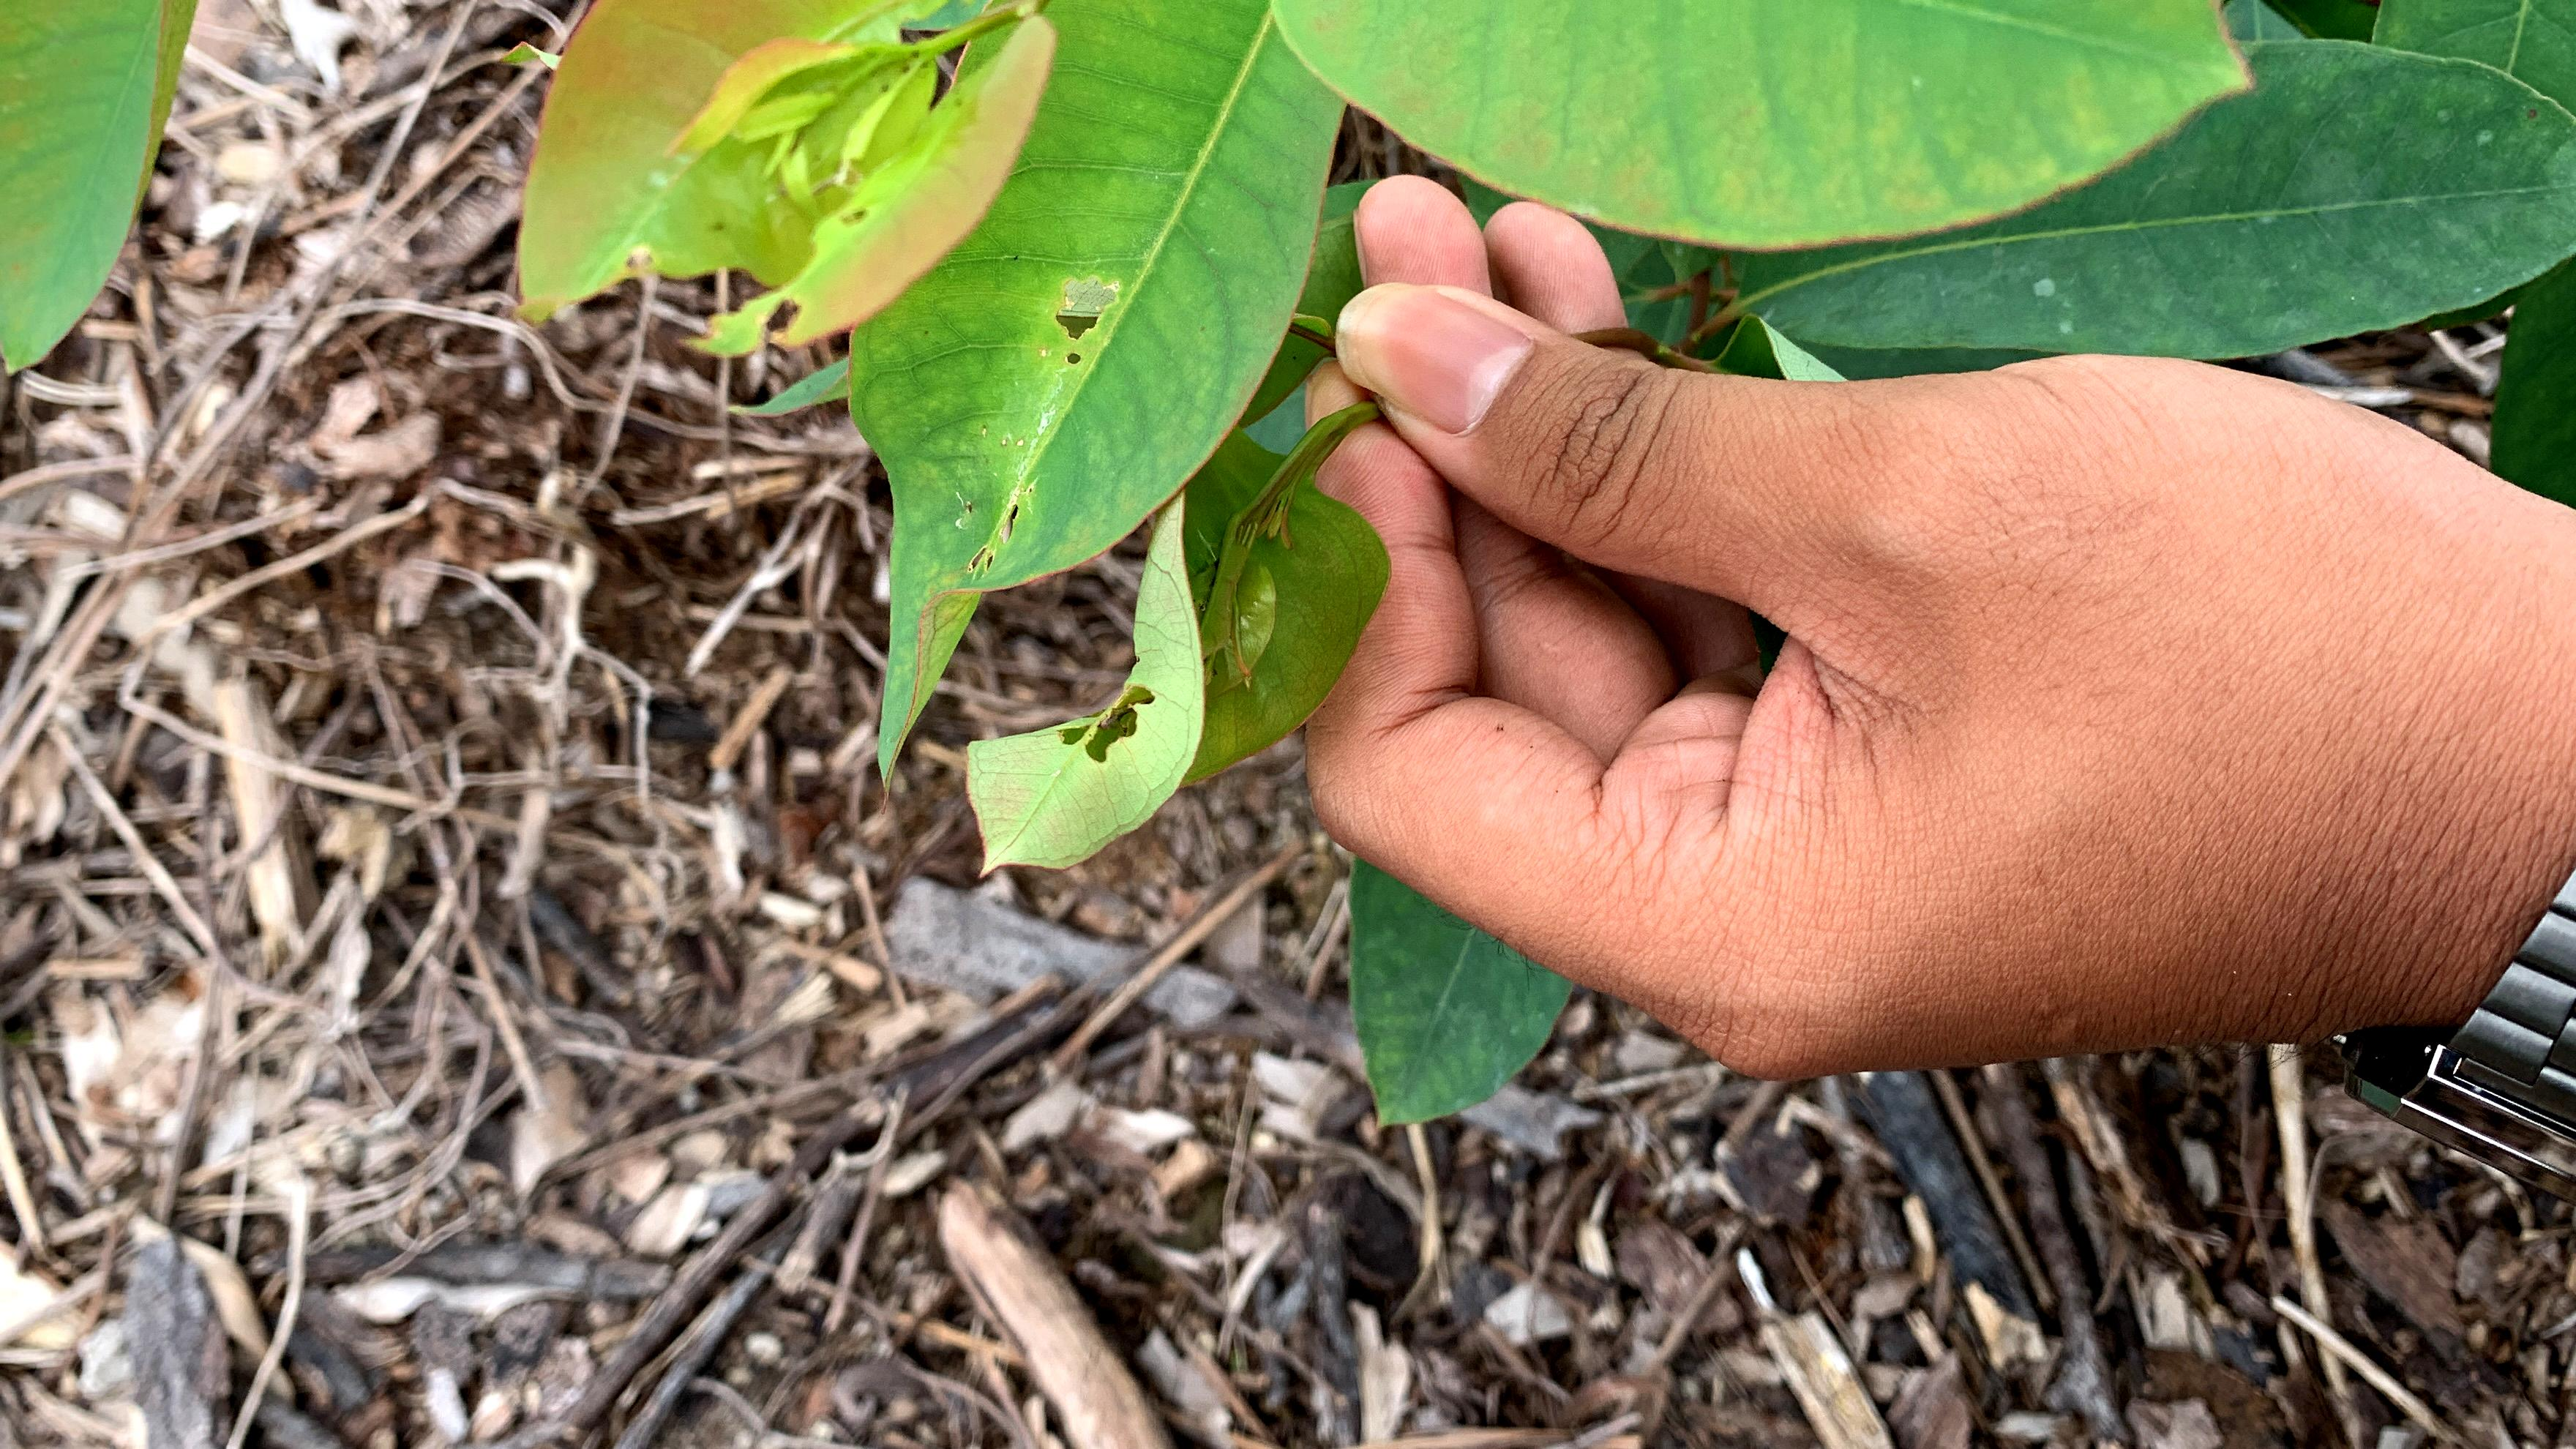Leaf Roller - Leaf: (921, 400, 1428, 939)
